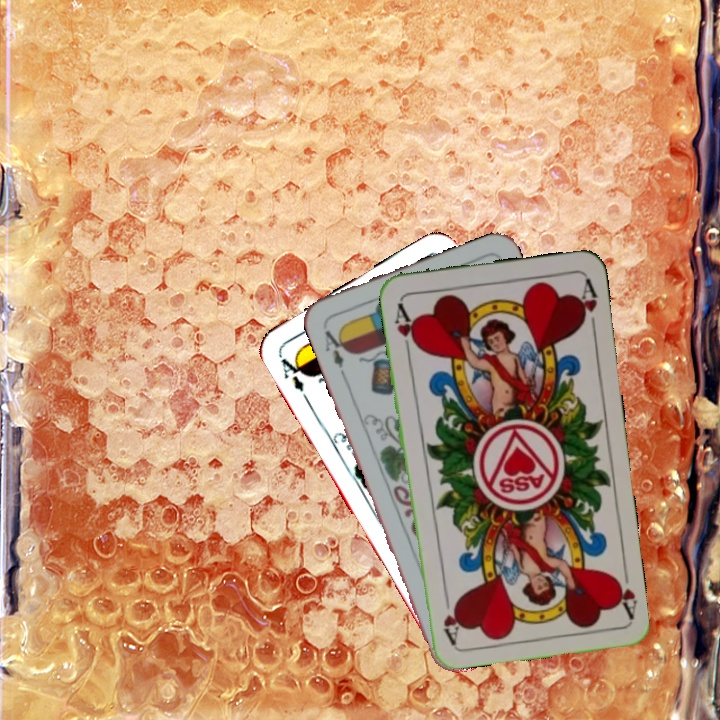EA: (274, 349, 310, 395), (320, 325, 350, 378)
HA: (608, 562, 639, 621), (390, 298, 420, 356)
